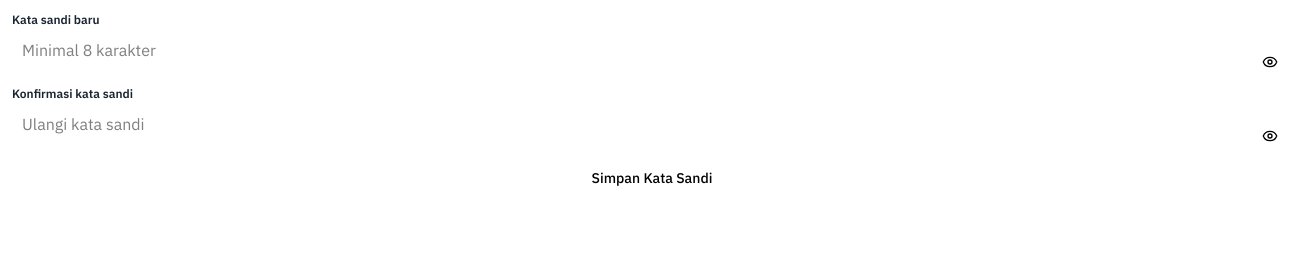
Test: Formulir perbarui kata sandi Neon Auth › menolak kata sandi yang terlalu pendek
The width and height of the screenshot is (1304, 270).
In the password field labelled "Kata sandi baru": point(652, 50) [12, 34, 1292, 66], type "pendek"
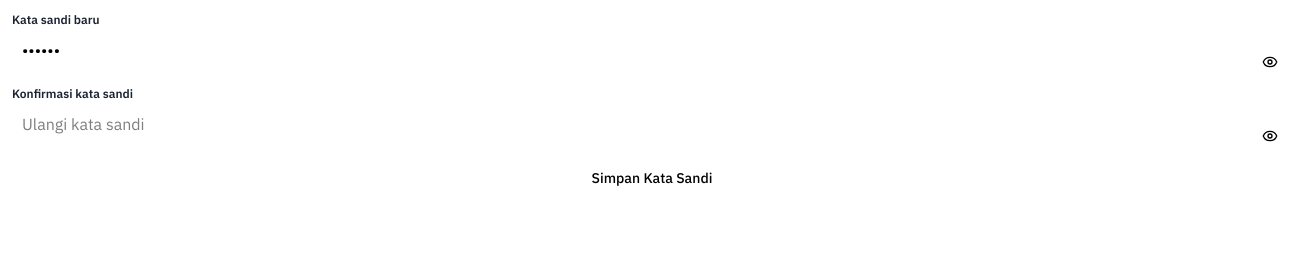
In the password field labelled "Konfirmasi kata sandi": point(652, 124) [12, 108, 1292, 140], type "pendek"
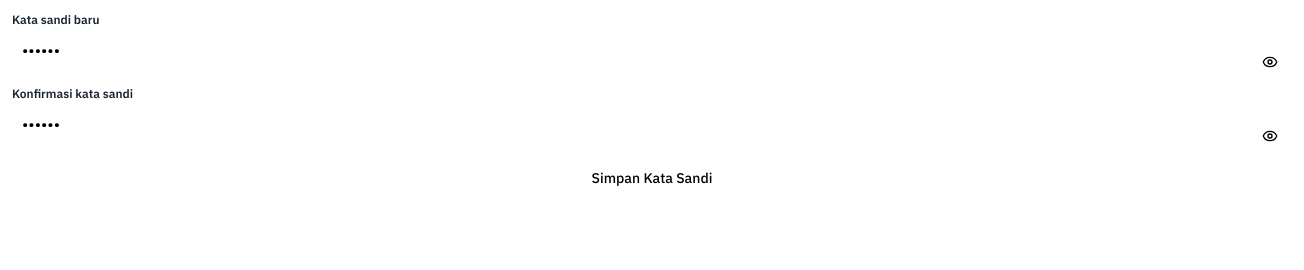
Submit the form labelled "Kata sandi baru"
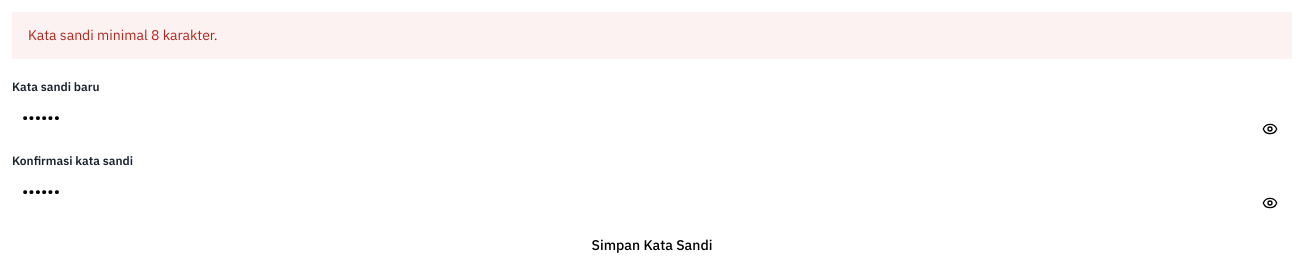
Expected: the text "Kata sandi minimal 8 karakter." is shown, [12, 12, 1292, 59]
